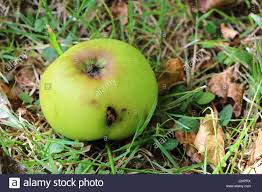damaged_apple: (34, 39, 162, 144)
